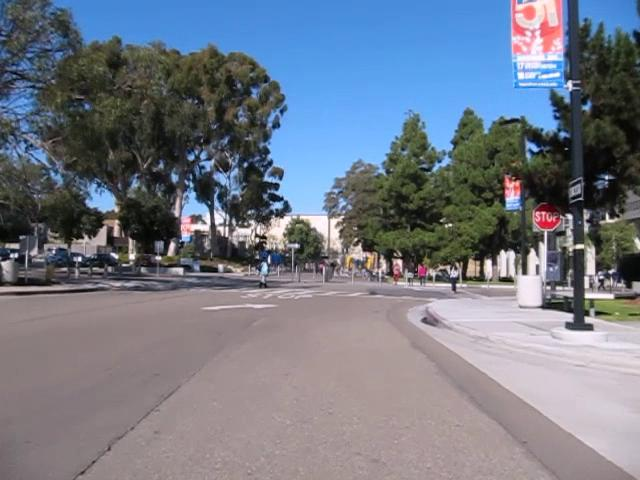stop: (532, 201, 562, 230)
